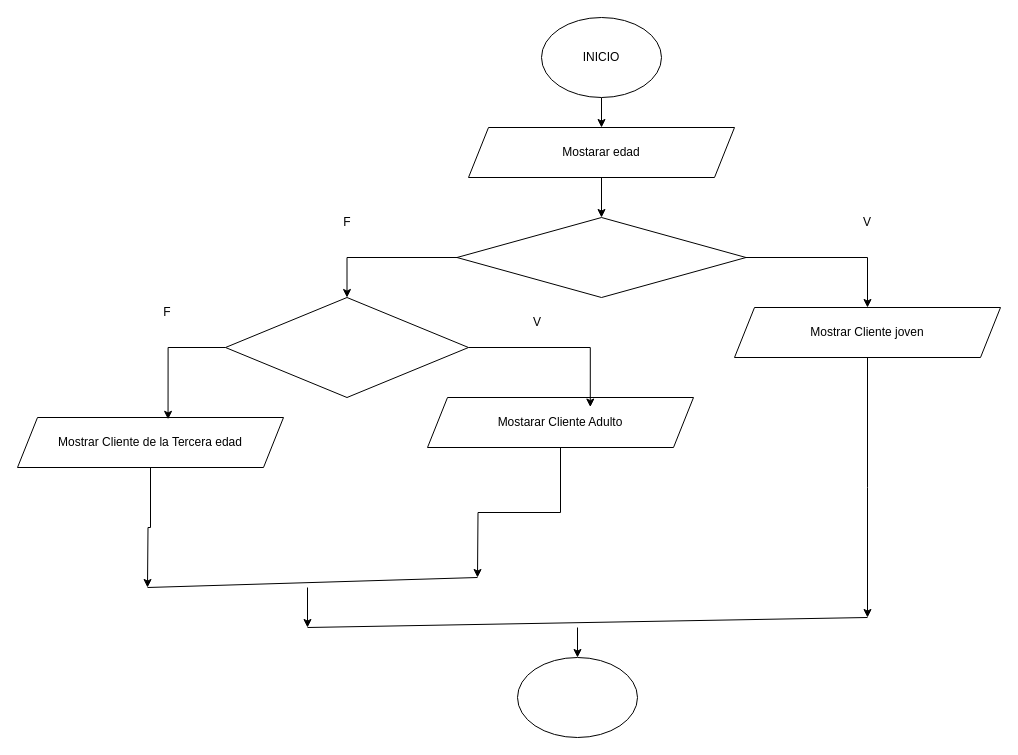
The diagram is 1018 pixels wide and 755 high, and some of its shapes have lost their labels. Each missing label, with the box of its shape:
edad < 18: (456, 216, 746, 298)
edad < = 64: (224, 296, 468, 398)
FIN: (516, 656, 638, 738)
